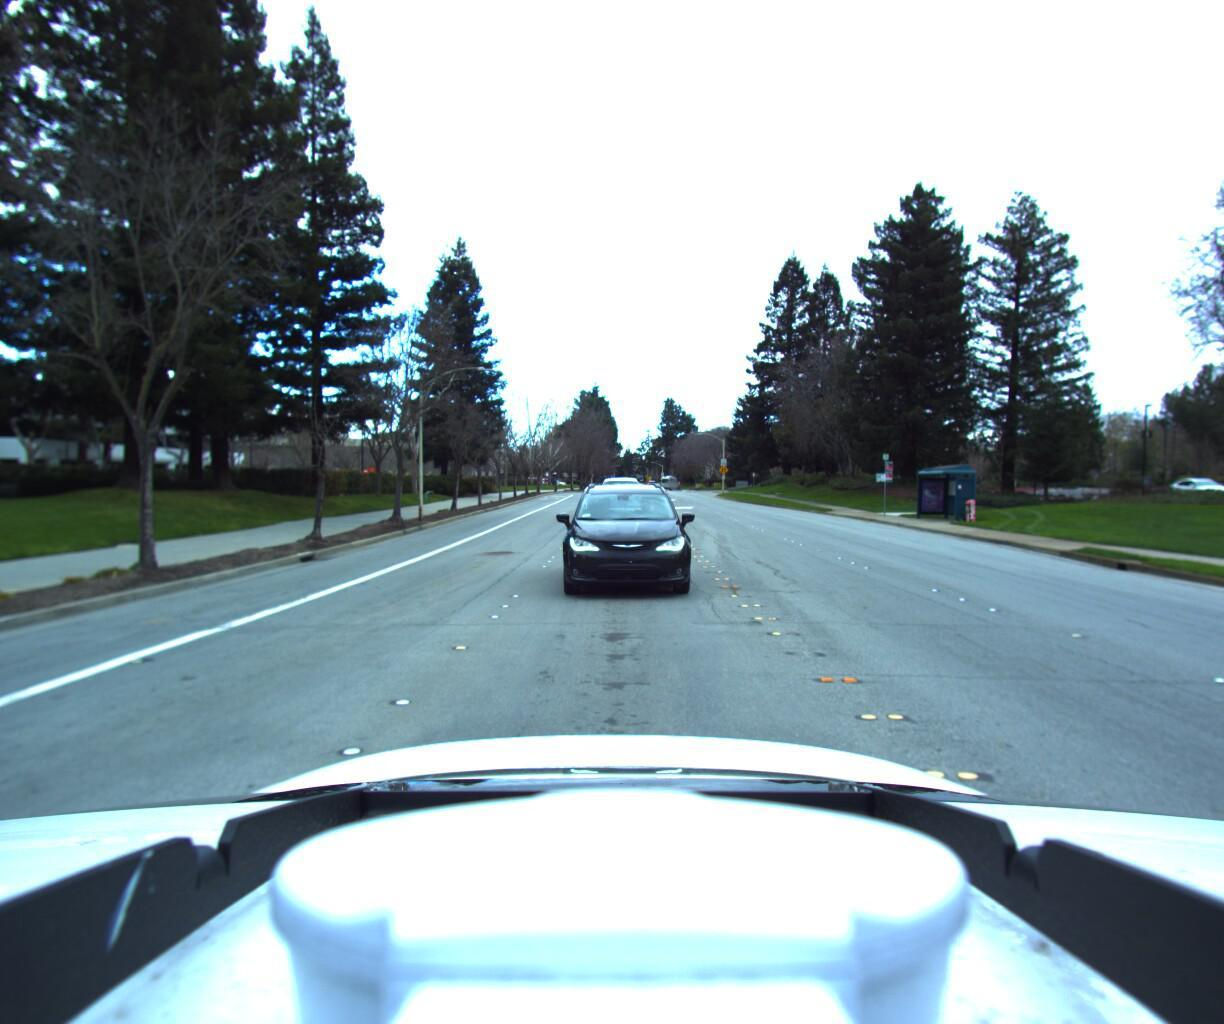car: (550, 468, 693, 599), (591, 476, 638, 520)
